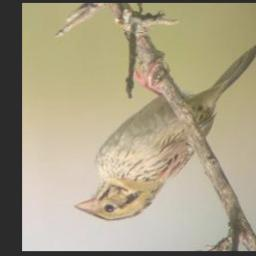Sparrow: (73, 42, 256, 222)
